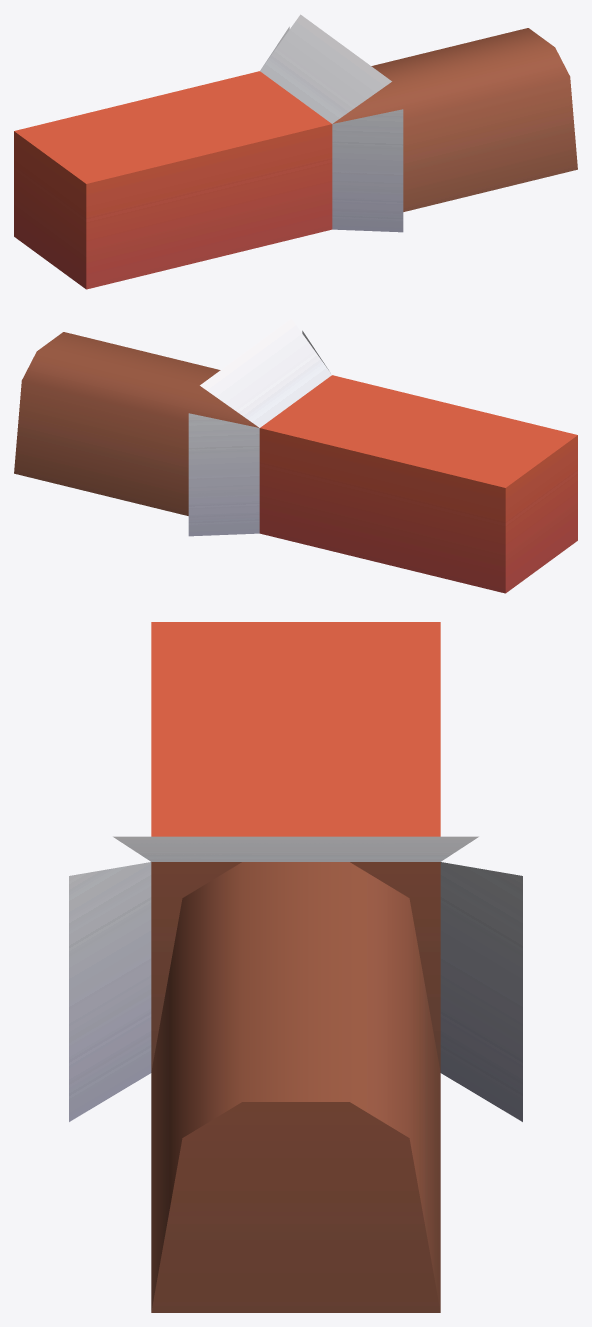
File: candy-bar-wrapper.glb
3 renders of one model, top to bottom at view 1: azimuth 30°, elevation 25°; view 2: azimuth 150°, elevation 25°; view 3: azimuth 270°, elevation 25°, orthographic. The views are drawn at different scales.
Visible parts, largest first — view 1: candy-bar-wrapper; view 2: candy-bar-wrapper; view 3: candy-bar-wrapper.
Part boxes in pixels (<box>): candy-bar-wrapper: <box>14,14,577,289</box>; candy-bar-wrapper: <box>14,318,577,593</box>; candy-bar-wrapper: <box>69,622,522,1312</box>.
Size of the model in its own units: 0.2924 by 0.0812 by 0.1169.
1 material, 1 textured.
